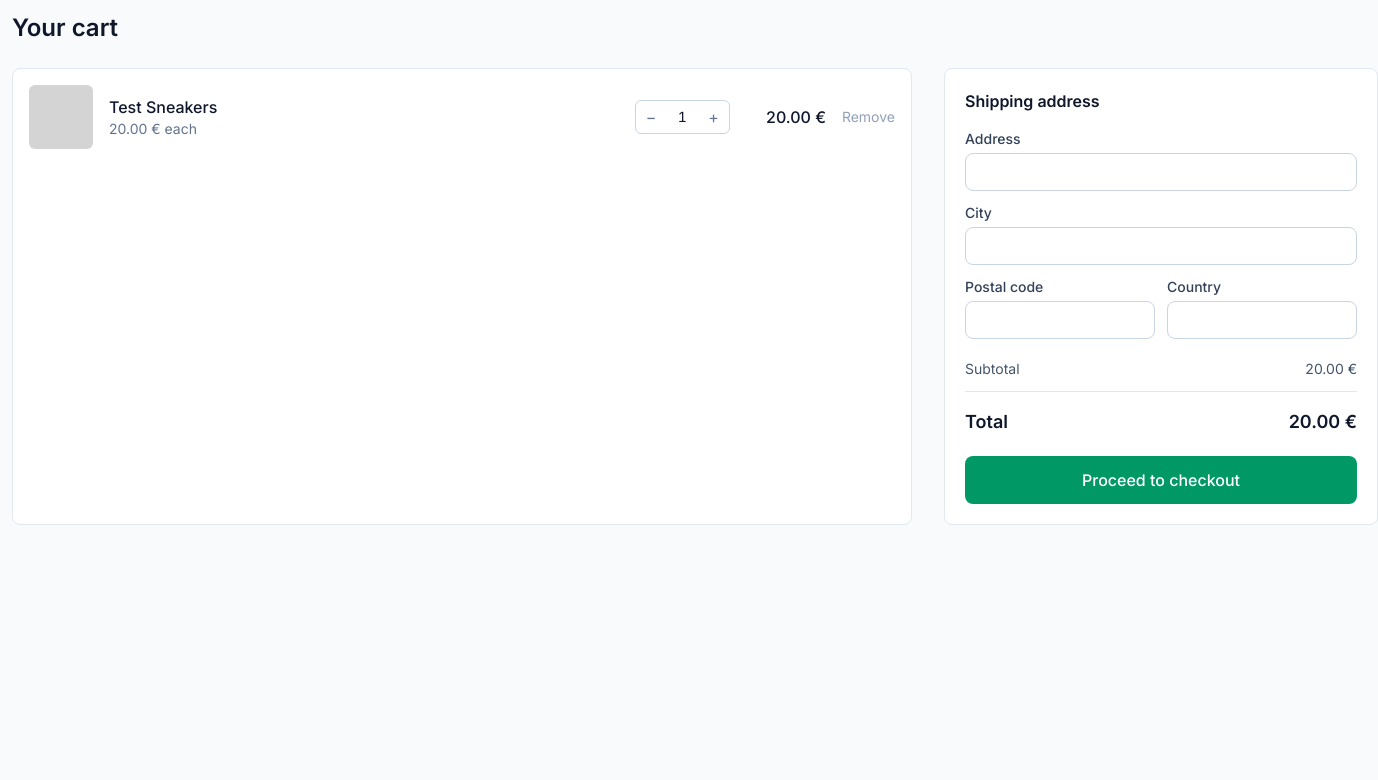
it: CartPage › shows a generic message when checkout fails without an explanation, e.g. a dropped connection
The image size is (1378, 780).
In the field labelled "Address": (1161, 172) [965, 153, 1357, 191], type "Testikatu 1"
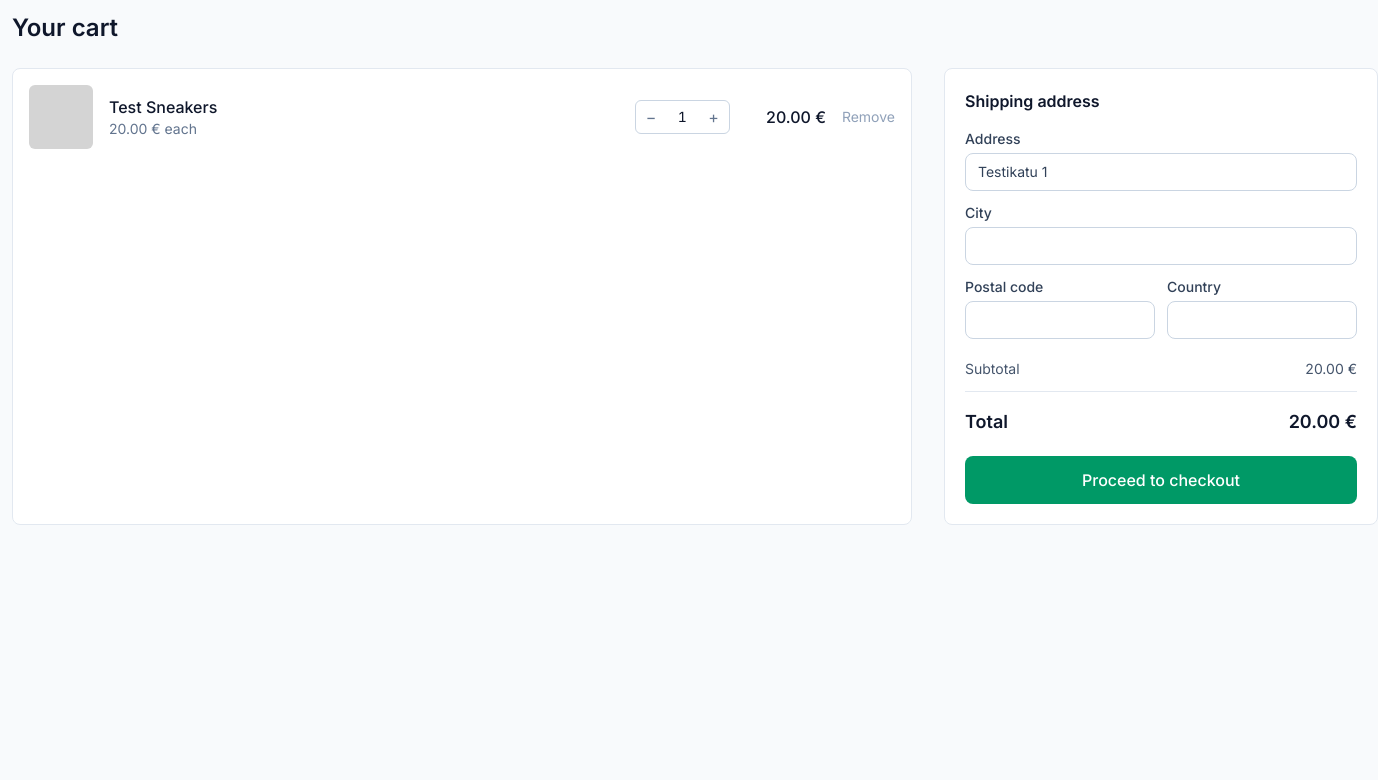
In the field labelled "City": (1161, 246) [965, 227, 1357, 265], type "Helsinki"
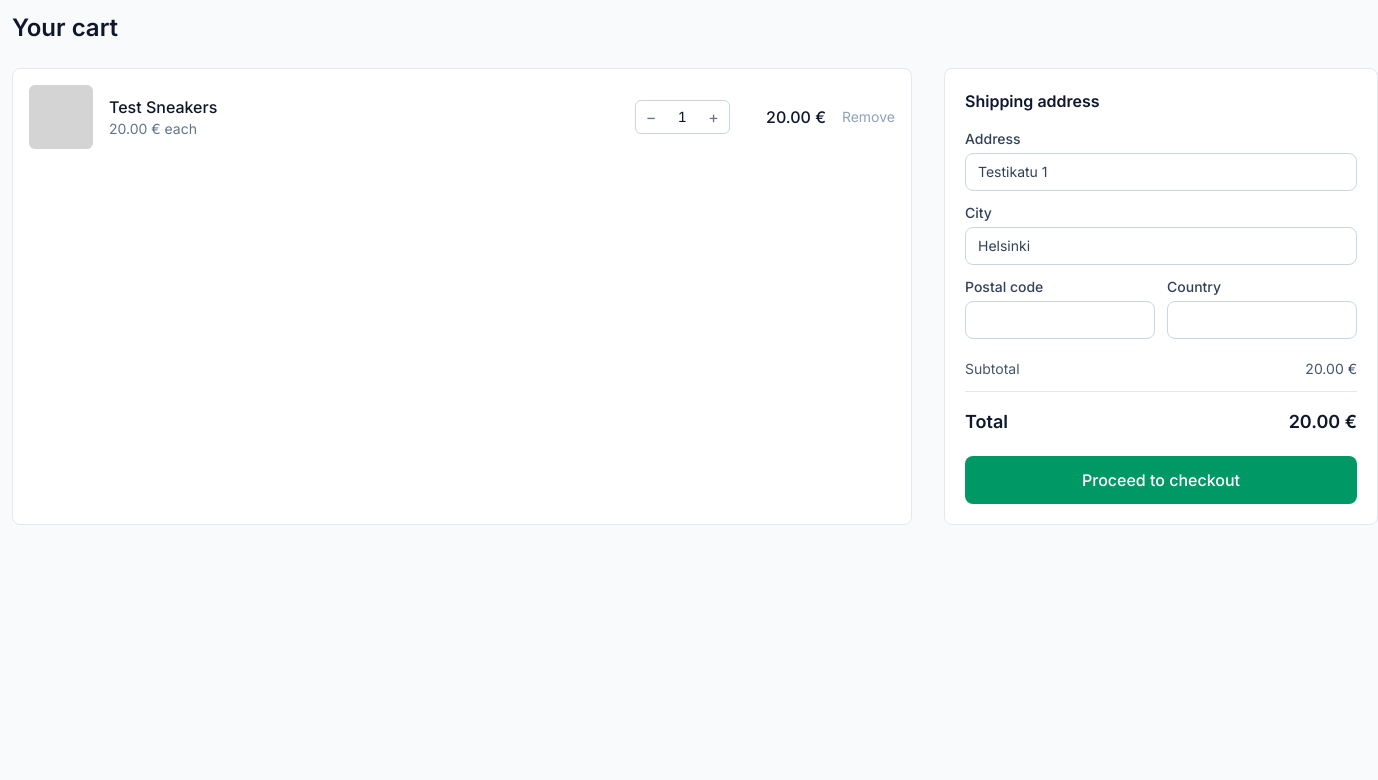
In the field labelled "Postal code": (1060, 320) [965, 301, 1155, 339], type "00100"
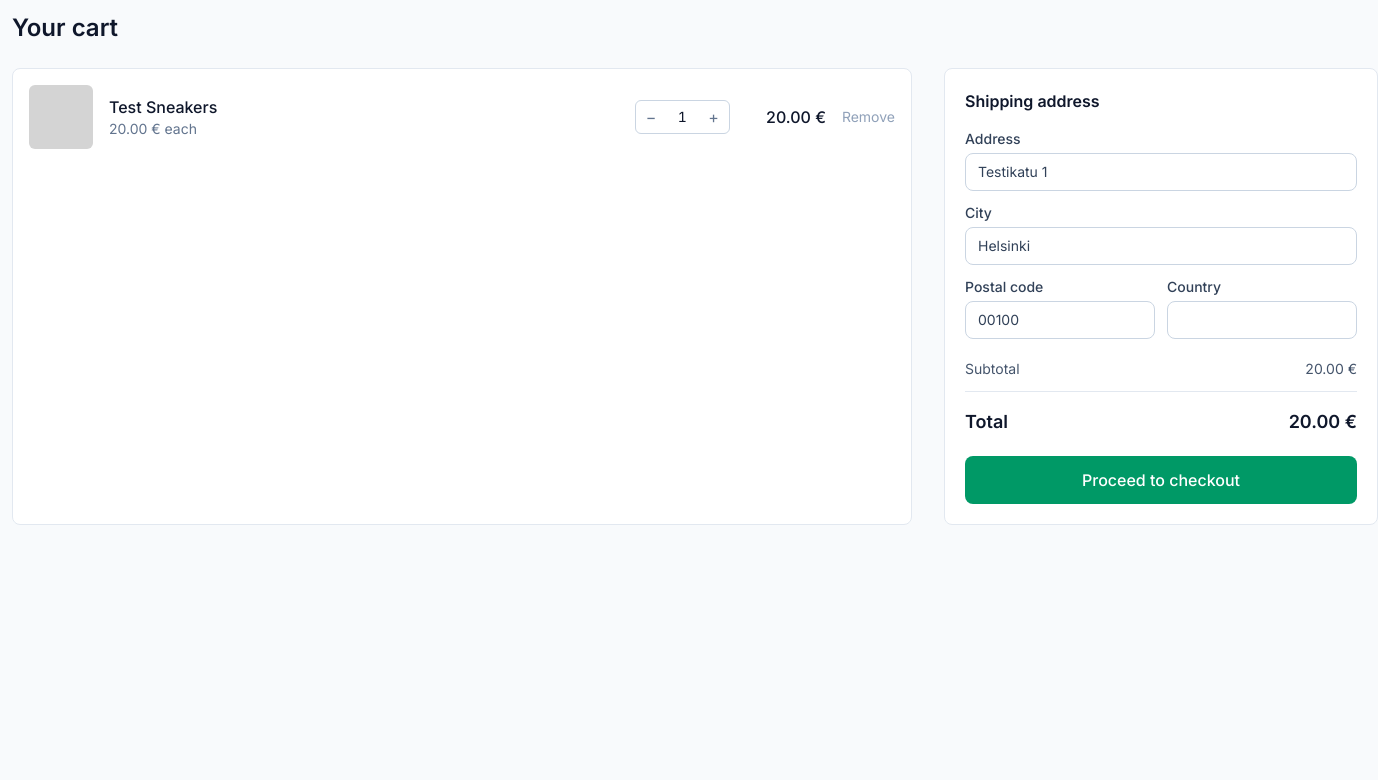
In the field labelled "Country": (1262, 320) [1167, 301, 1357, 339], type "FI"
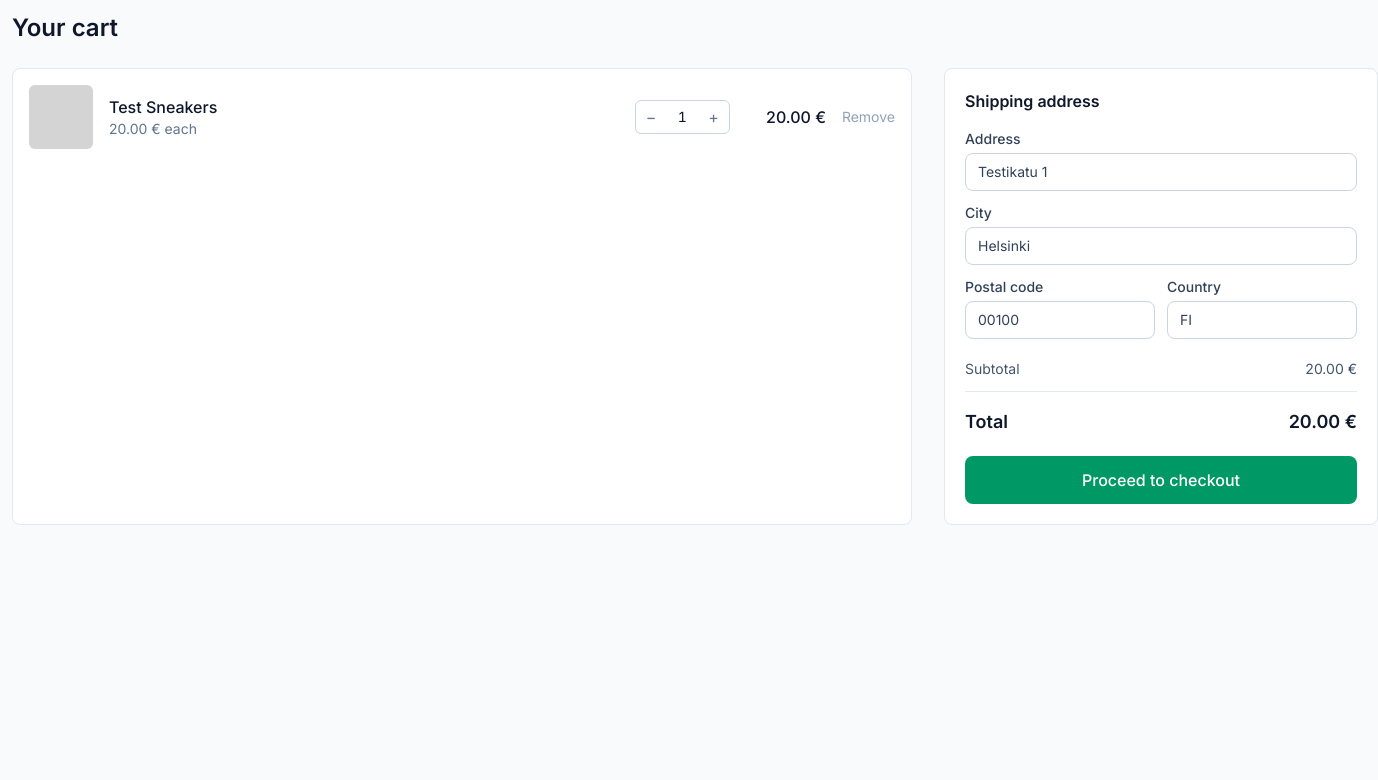
Click the button "Proceed to checkout": (1161, 480) [965, 456, 1357, 504]
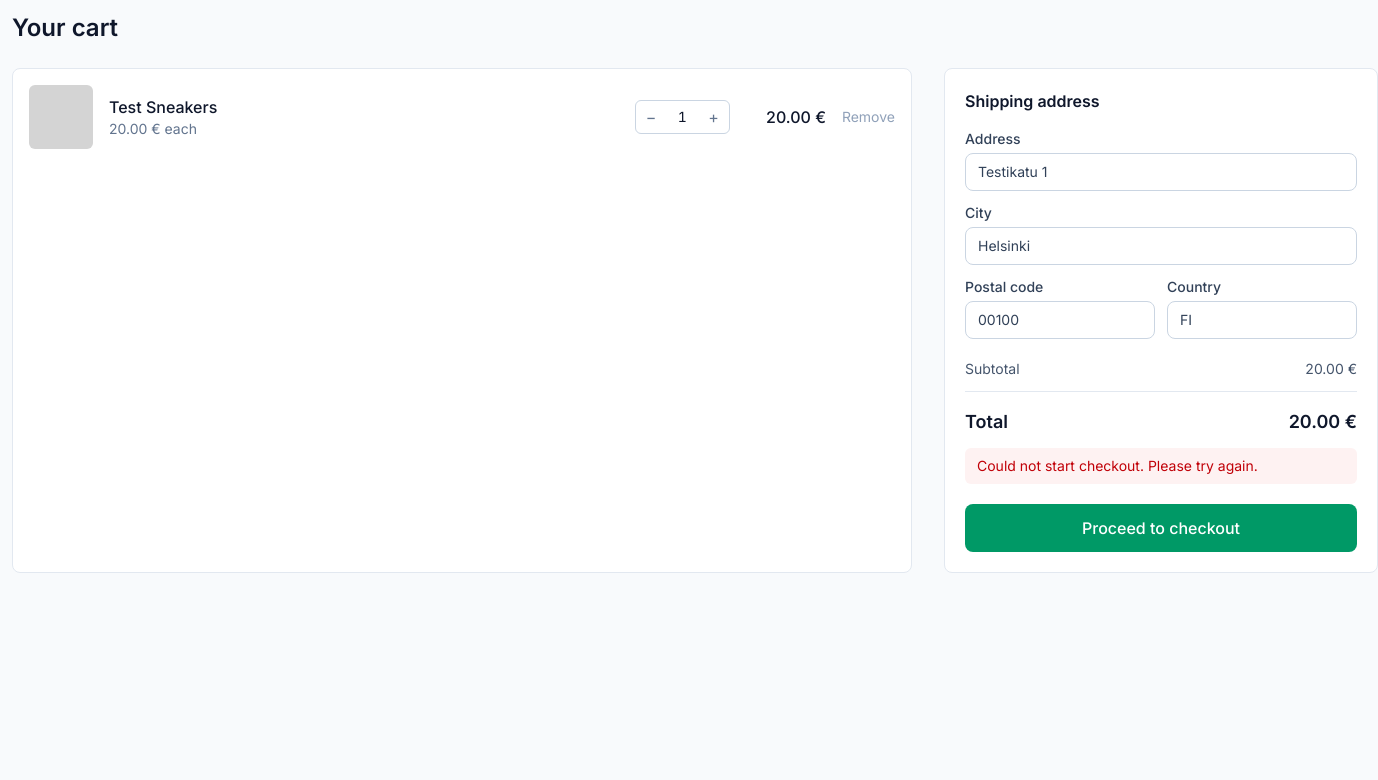
Expected: the message reads "Could not start checkout. Please try again.", [977, 457, 1258, 474]
